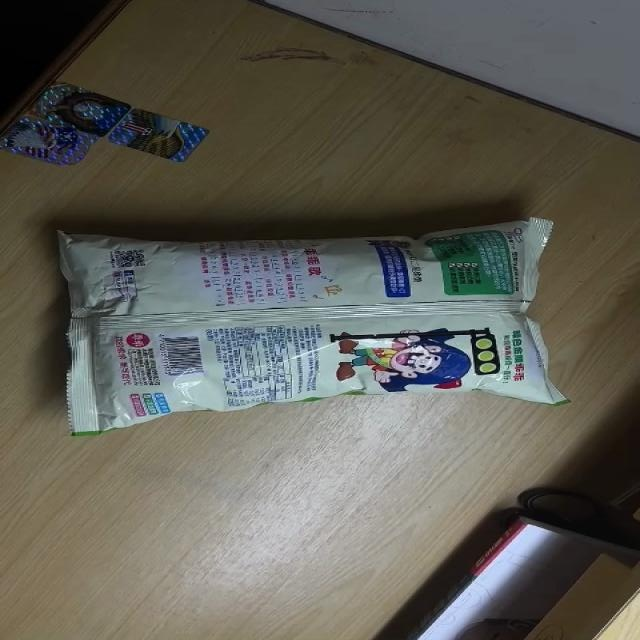Good-Luck: (54, 217, 570, 439)
